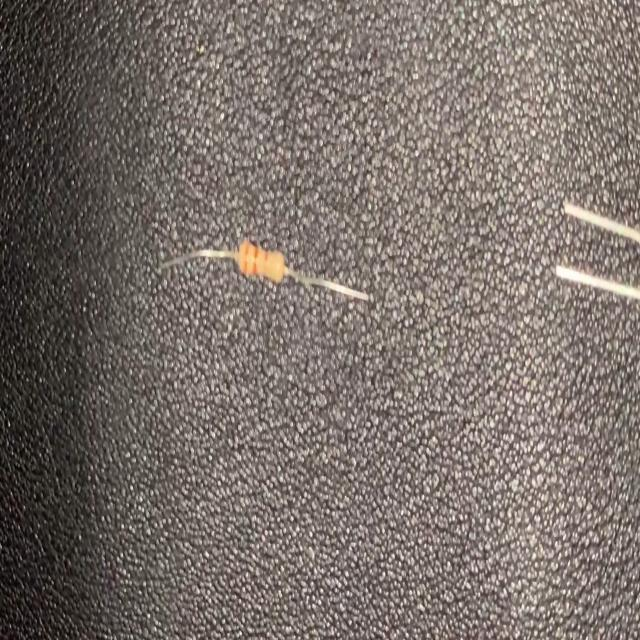faded: (263, 249, 285, 285)
resistor: (159, 239, 373, 308)
